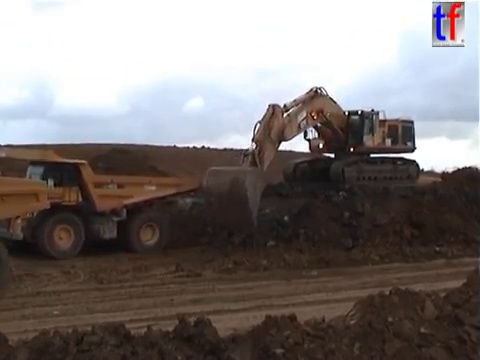excavator: (202, 84, 423, 237)
truck: (1, 143, 201, 260), (1, 173, 53, 300)
